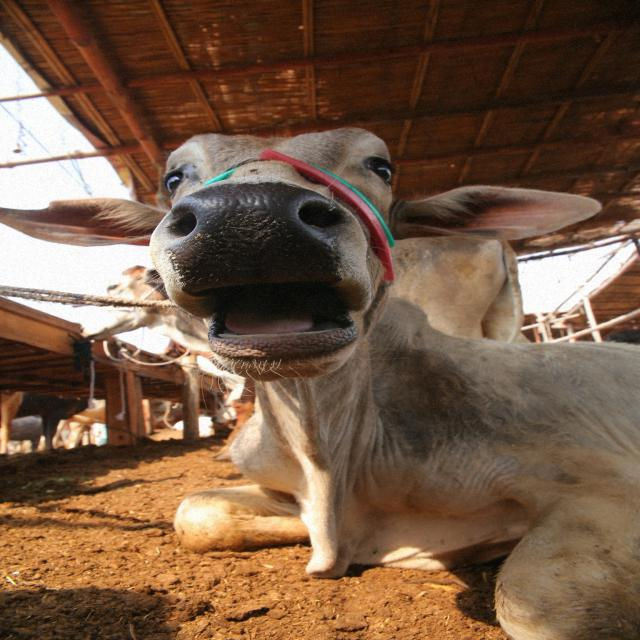muzzles: (156, 182, 362, 294)
